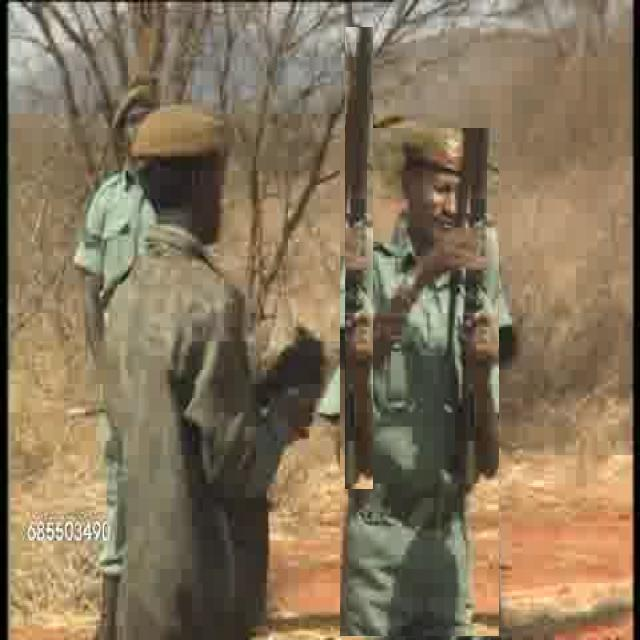poacher: (340, 128, 499, 636), (126, 105, 266, 587), (102, 88, 150, 138)
weapon: (346, 27, 374, 489)
